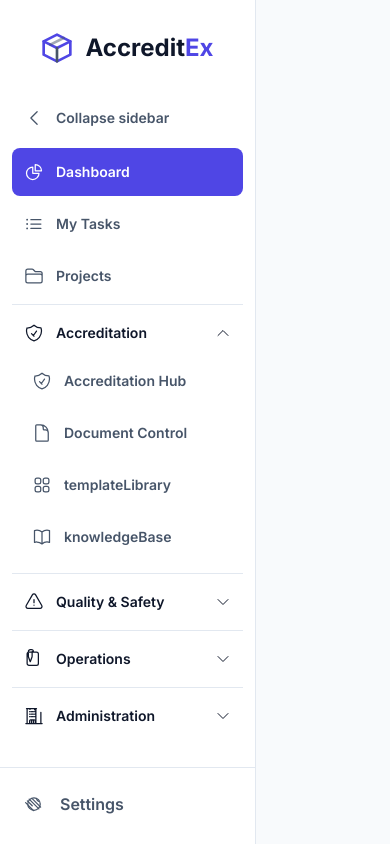
Test: Grouped sidebar user journey › puts daily destinations first and hides secondary workspaces behind named groups
This screenshot has width=390, height=844.
Expected: the button "Audit Hub" is not shown
Click the button "Quality & Safety". click: click(128, 602)
box: x1=12 y1=578 x2=243 y2=626
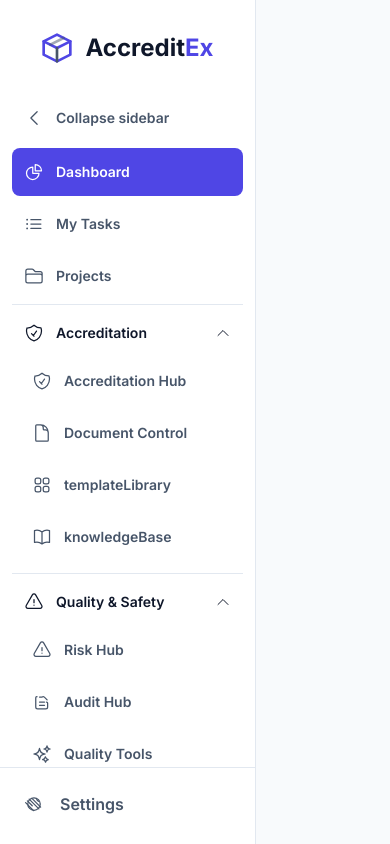
Result: the button "Audit Hub" is shown at x1=20 y1=678 x2=243 y2=726
